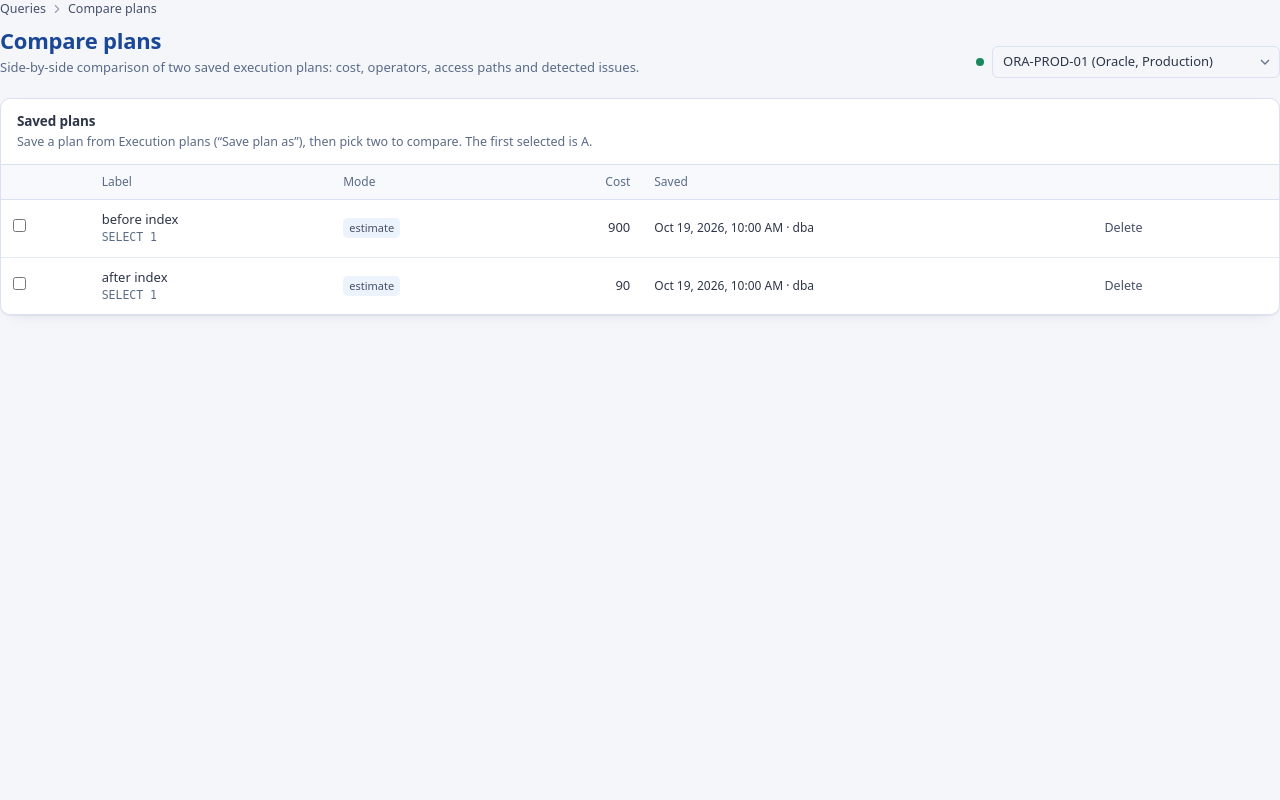
Test case: plan comparison › compares two saved plans
Click the checkbox named "Select before index" at (20,226), box x1=13 y1=219 x2=26 y2=232
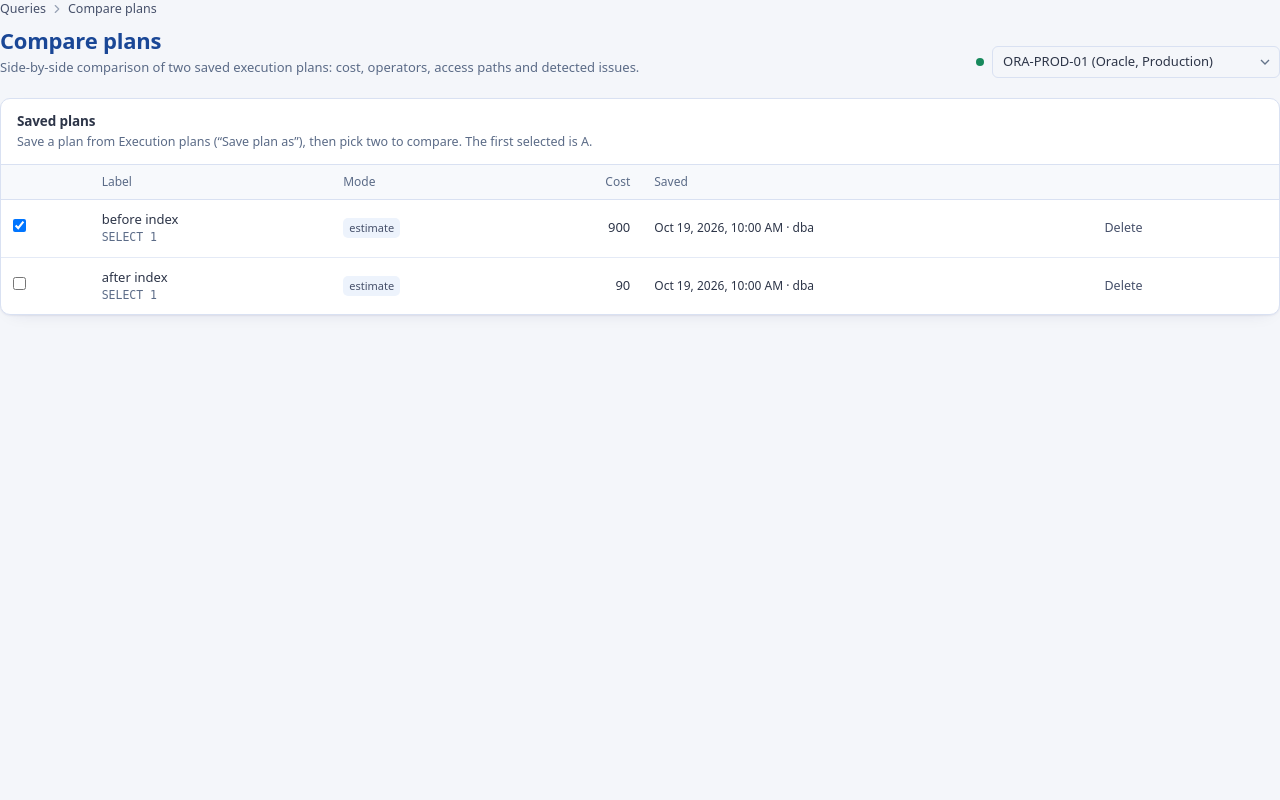
Click the checkbox named "Select after index" at (20,284), box x1=13 y1=277 x2=26 y2=290
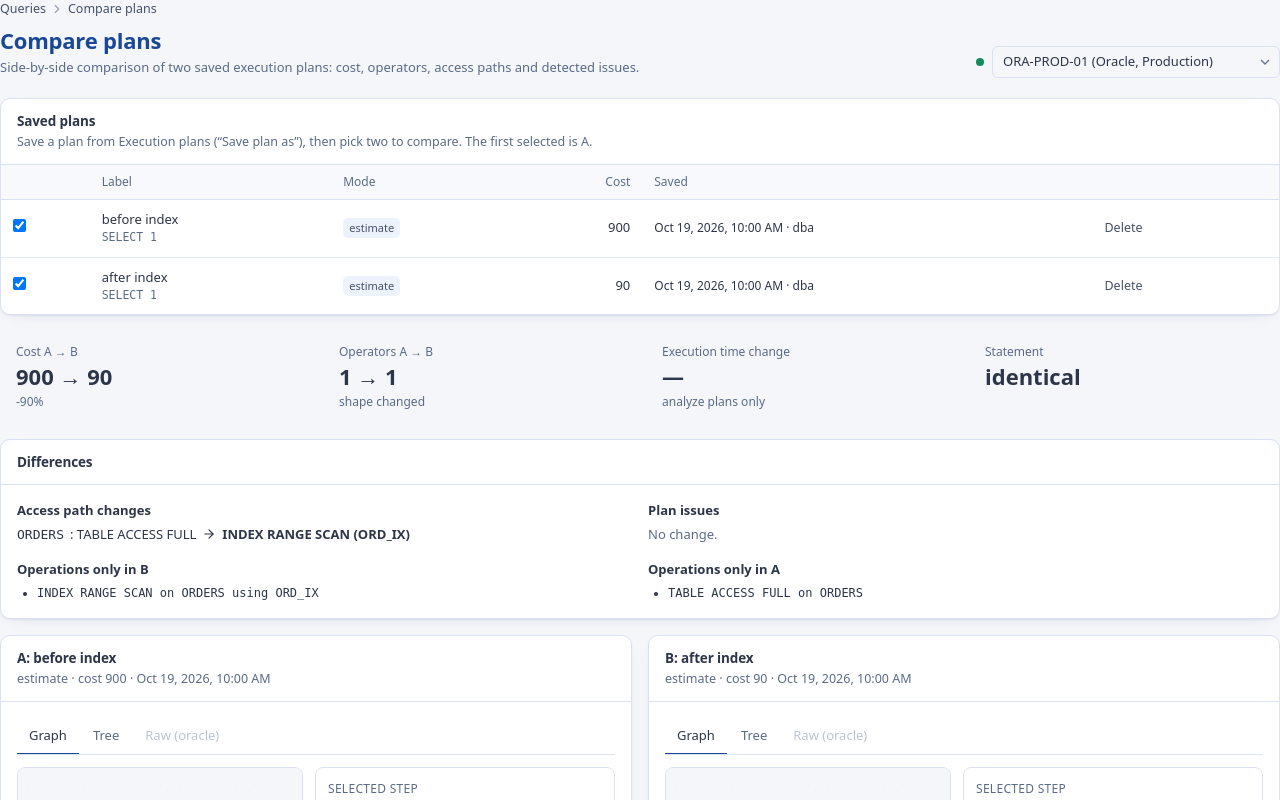
Expected: the list item "INDEX RANGE SCAN on ORDERS using ORD_IX" is shown, x1=37 y1=586 x2=319 y2=600
Expected: the text "-90%" is shown, x1=16 y1=393 x2=44 y2=410
Expected: the text "INDEX RANGE SCAN (ORD_IX)" is shown, x1=222 y1=524 x2=410 y2=544
